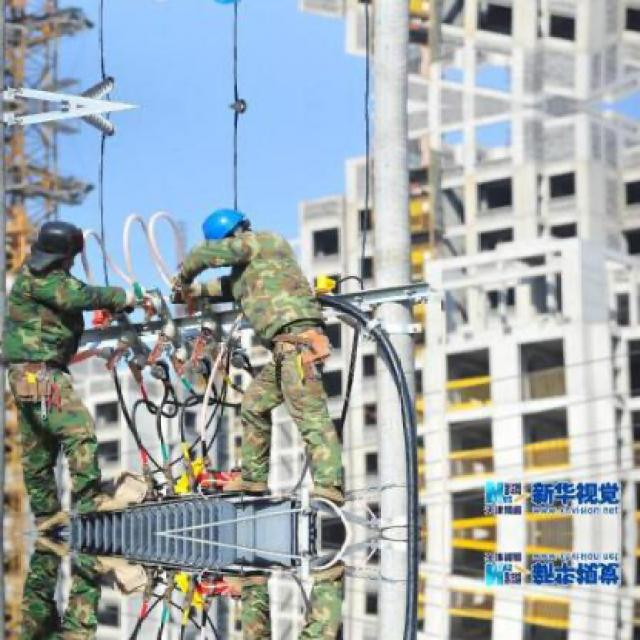helmet: (37, 214, 85, 268), (202, 205, 256, 251), (199, 0, 255, 9)
